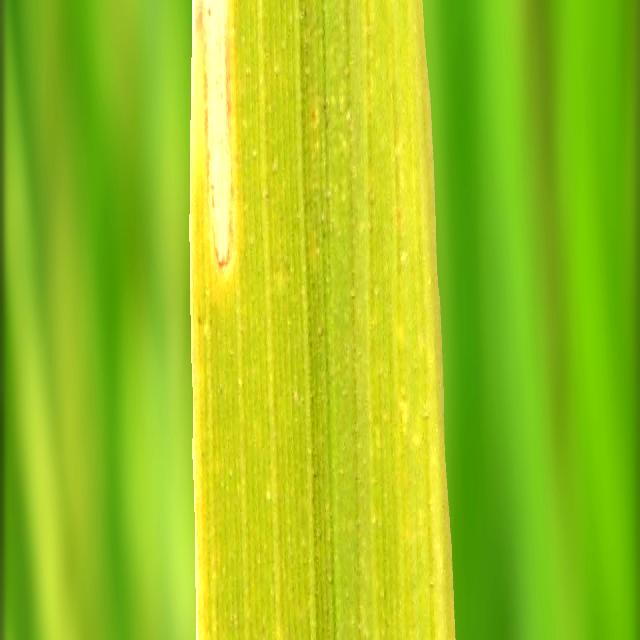BLS: (192, 0, 234, 640)
